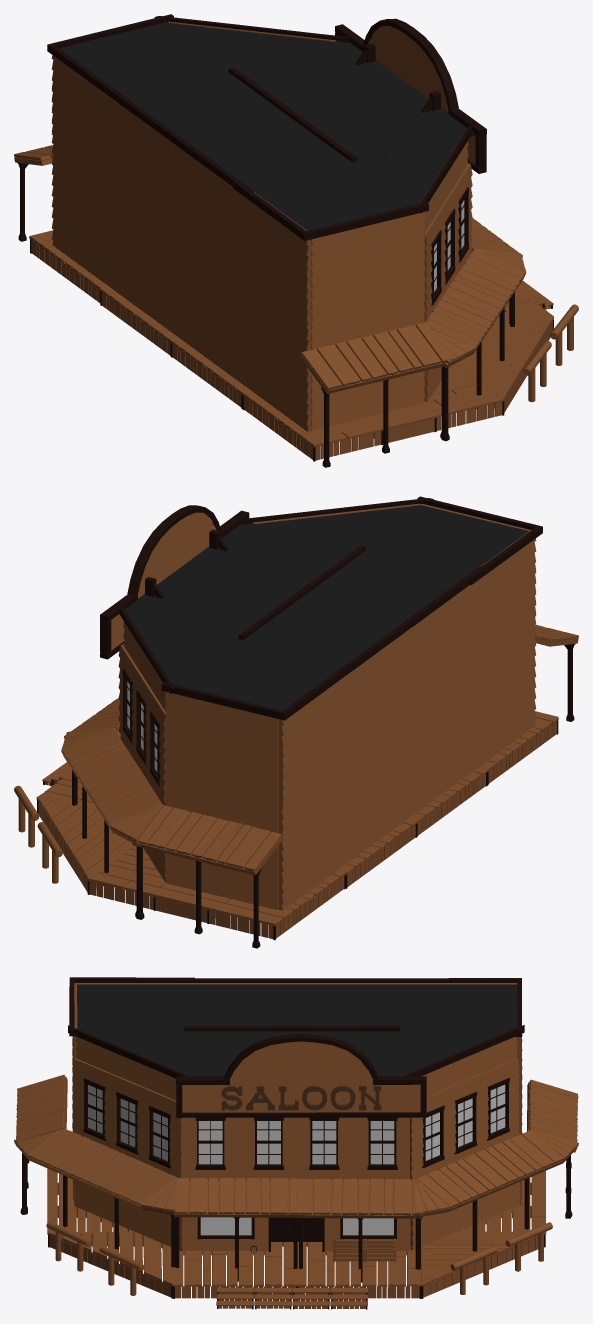
The model's file is saloon.obj.
3 views of the same model, one above another, from view 1: azimuth 30°, elevation 25°; view 2: azimuth 150°, elevation 25°; view 3: azimuth 270°, elevation 25° (orthographic). The views are drawn at different scales.
Visible parts, largest first — view 1: Window_A.011; view 2: Window_A.011; view 3: Window_A.011.
Boxes of the visible parts, x1,y1,x2,y2 form: Window_A.011: (14,14,578,467); Window_A.011: (14,496,578,948); Window_A.011: (14,977,578,1309).
Size of the model in its own units: 9.06 by 6.8 by 14.88.
